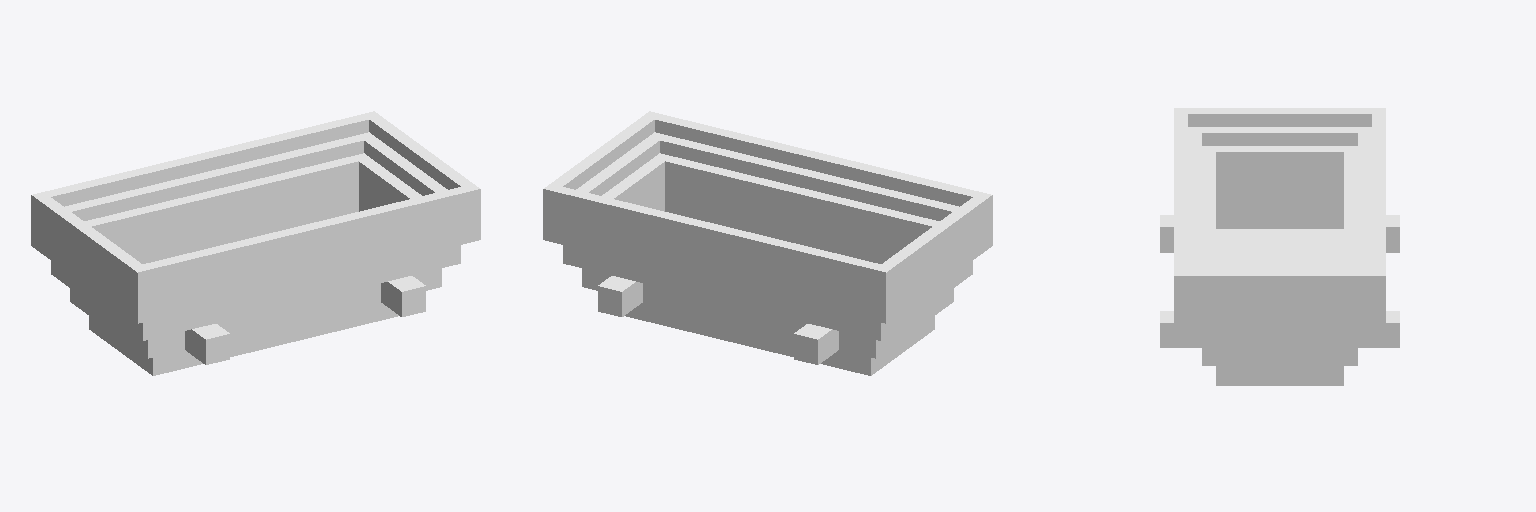
The model's file is carrinho_meio.obj.
3 renders of one model, left to right at view 1: azimuth 30°, elevation 25°; view 2: azimuth 150°, elevation 25°; view 3: azimuth 270°, elevation 25°, orthographic.
Parts seen in each view (by area): view 1: carrinho_meio; view 2: carrinho_meio; view 3: carrinho_meio.
Boxes of the visible parts, x1=… form: carrinho_meio: x1=31, y1=111, x2=480, y2=375; carrinho_meio: x1=543, y1=111, x2=992, y2=375; carrinho_meio: x1=1160, y1=108, x2=1399, y2=385.
Size of the model in its own units: 28 by 10 by 17.